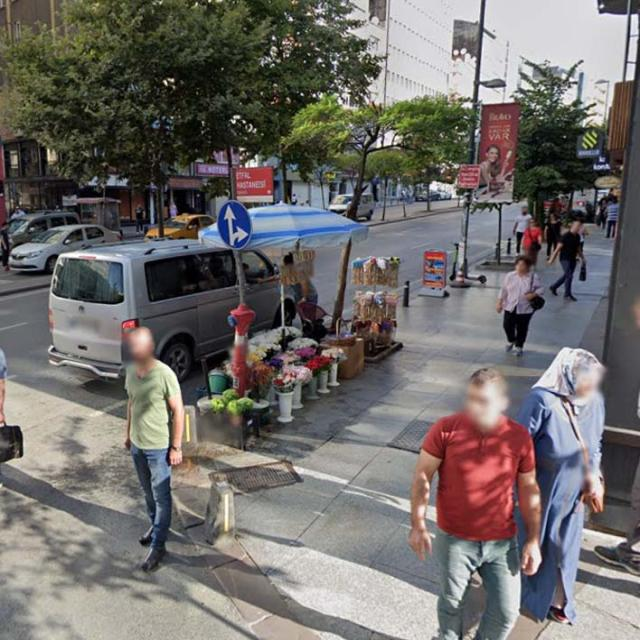ilerisag: (216, 202, 252, 250)
